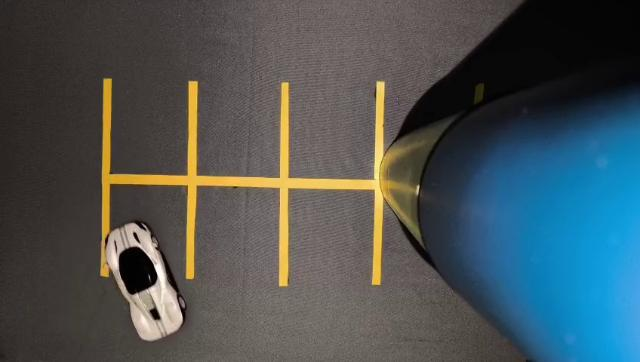toy_car: (86, 196, 204, 347)
